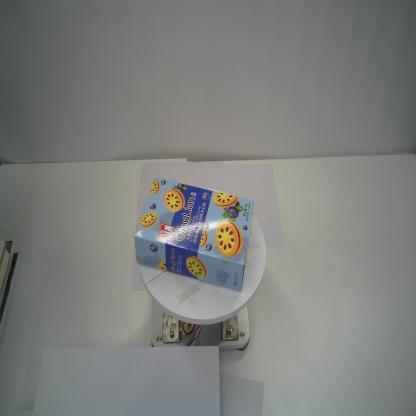Dessert: (132, 177, 256, 292)
